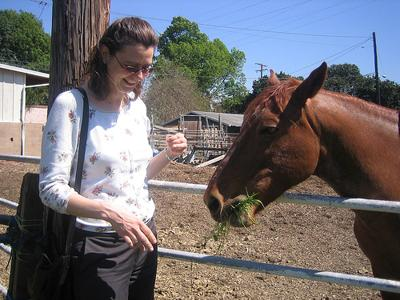person: (41, 17, 189, 300)
